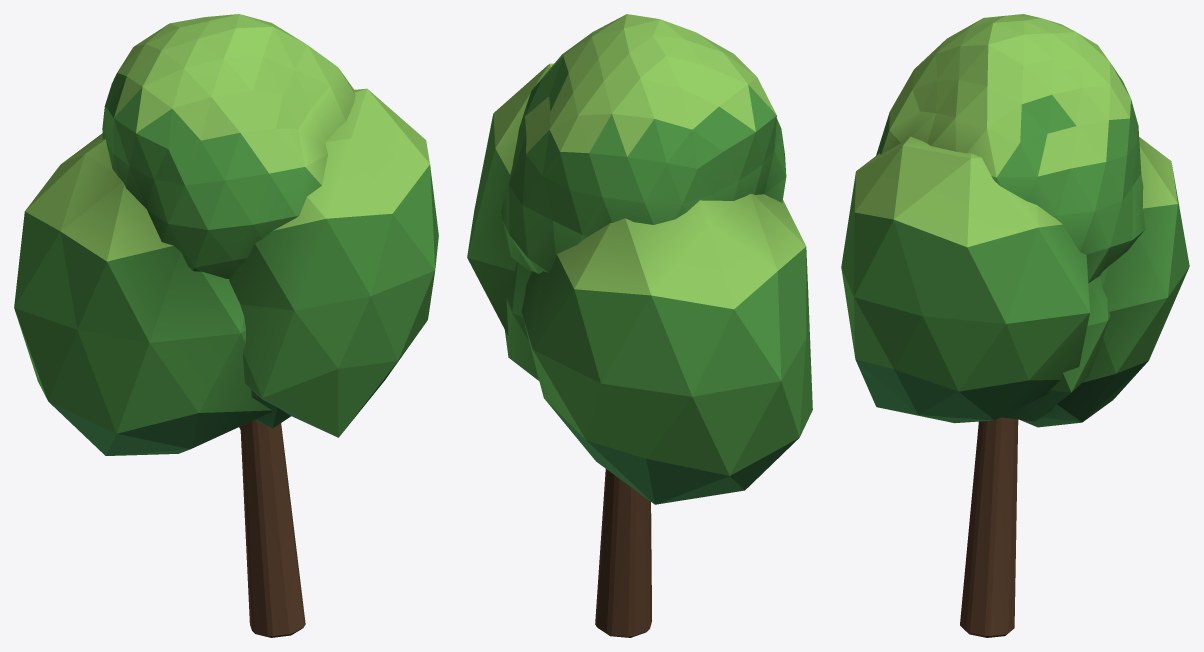
The model's file is tree_broadleaf_c_medium.glb.
3 renders of one model, left to right at view 1: azimuth 30°, elevation 25°; view 2: azimuth 150°, elevation 25°; view 3: azimuth 270°, elevation 25°, orthographic. The views are drawn at different scales.
Parts seen in each view (by area): view 1: Canopy, Trunk; view 2: Canopy, Trunk; view 3: Canopy, Trunk.
Boxes of the visible parts, x1,y1,x2,y2 form: Canopy: (14, 14, 438, 455); Trunk: (239, 420, 305, 637); Canopy: (467, 14, 812, 504); Trunk: (595, 469, 651, 637); Canopy: (841, 14, 1189, 427); Trunk: (960, 417, 1018, 637).
Size of the model in its own units: 5.22 by 8.73 by 4.68.
Materials: 1 (1 with a texture image).
